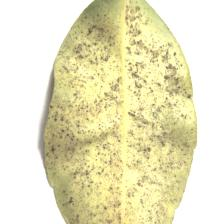canker: (68, 45, 171, 190)
